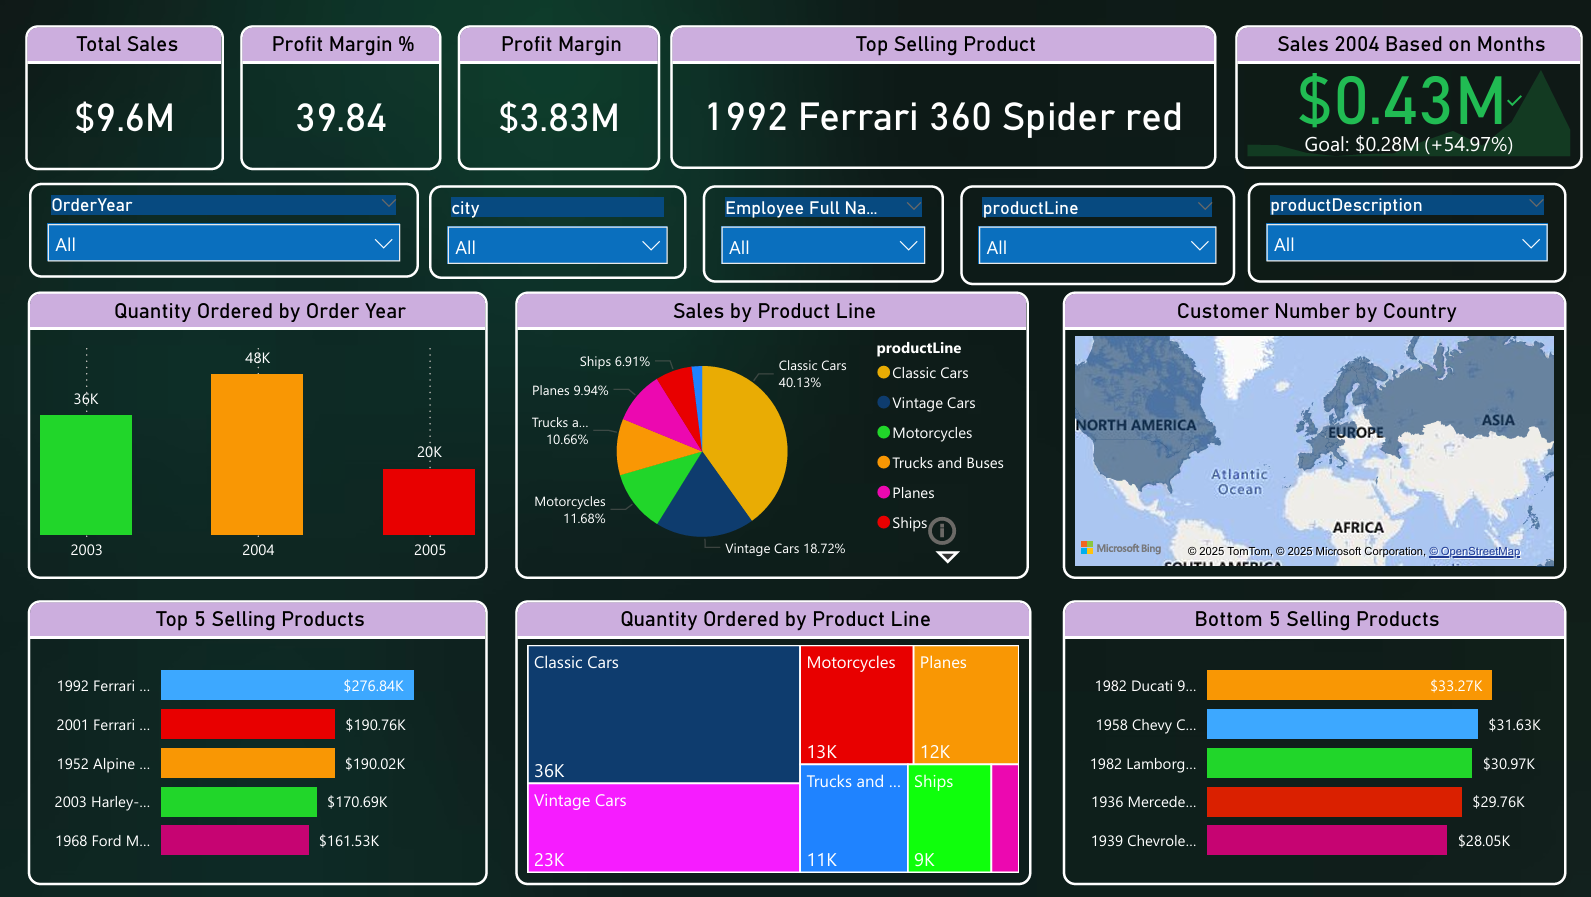

The dashboard page shown, as its layout file describes it:
{"tool":"powerbi","page":{"name":"Dashboard","canvas":[1280,720],"ordinal":0},"visuals":[{"type":"barChart","title":"Top 5 Selling Products","fields":{"Category":["Products.productName"],"Y":["Order Details.Sales"]},"box":[22.9,481.4,368.6,227.1],"z":0},{"type":"pieChart","title":"Sales by Product Line","fields":{"Category":["Products.productLine"],"Y":["Order Details.Sales"]},"box":[412.9,234.3,411.4,230],"z":1000},{"type":"card","title":"Profit Margin %","fields":{"Values":["classic_models_dataset.ProfitMargin%"]},"box":[192.9,21.4,161.4,115.7],"z":2000},{"type":"slicer","fields":{"Values":["Orders.OrderYear"]},"box":[24.3,147.1,311.4,75.7],"z":3000},{"type":"kpi","title":"Sales 2004 Based on Months","fields":{"Goal":["Orders.sales_2003"],"TrendLine":["Orders.Month Name"],"Indicator":["Orders.sales_2004"]},"box":[988.6,21.4,278.6,114.3],"z":4000},{"type":"filledMap","title":"Customer Number by Country","fields":{"Category":["Customers.country"]},"box":[851.4,234.3,402.9,230],"z":5000},{"type":"treemap","title":"Quantity Ordered by Product Line","fields":{"Group":["Product Lines.productLine"],"Values":["Order Details.quantityOrdered"]},"box":[412.9,481.4,412.9,227.1],"z":6000},{"type":"clusteredColumnChart","title":"Quantity Ordered by Order Year","fields":{"Category":["Orders.OrderYear"],"Y":["Order Details.quantityOrdered"]},"box":[22.9,234.3,368.6,230],"z":7000},{"type":"card","title":"Top Selling Product","fields":{"Values":["Order Details.MostOrderedProduct"]},"box":[537.1,21.4,437.1,114.3],"z":8000},{"type":"card","title":"Total Sales","fields":{"Values":["Order Details.Sales"]},"box":[21.4,21.4,158.6,115.7],"z":9000},{"type":"slicer","fields":{"Values":["Offices.city"]},"box":[344.3,148.6,205.7,75.7],"z":10000},{"type":"slicer","fields":{"Values":["Employees.Employee Full Name"]},"box":[562.9,148.6,192.9,78.6],"z":11000},{"type":"slicer","fields":{"Values":["Product Lines.productLine"]},"box":[768.6,148.6,220,80],"z":12000},{"type":"slicer","fields":{"Values":["Products.productDescription"]},"box":[998.6,147.1,255.7,80],"z":13000},{"type":"barChart","title":"Bottom 5 Selling Products","fields":{"Category":["Products.productName"],"Y":["Order Details.Sales"]},"box":[851.4,481.4,402.9,227.1],"z":14000},{"type":"actionButton","box":[738.8,410,32.5,31.2],"z":15000},{"type":"card","title":"Profit Margin ","fields":{"Values":["Order Details.Profit"]},"box":[367.1,21.4,161.4,115.7],"z":16000}]}

Visuals, with their boxes in screenshot pixels (x1, y1, x2, y2), scaled from the page's 1280x720 canvas onto the 1591x897 screenshot:
"Top 5 Selling Products" barChart: region(28, 600, 487, 883)
"Sales by Product Line" pieChart: region(513, 292, 1025, 578)
"Profit Margin %" card: region(240, 27, 440, 171)
slicer - Orders.OrderYear: region(30, 183, 417, 278)
"Sales 2004 Based on Months" kpi: region(1229, 27, 1575, 169)
"Customer Number by Country" filledMap: region(1058, 292, 1559, 578)
"Quantity Ordered by Product Line" treemap: region(513, 600, 1026, 883)
"Quantity Ordered by Order Year" clusteredColumnChart: region(28, 292, 487, 578)
"Top Selling Product" card: region(668, 27, 1211, 169)
"Total Sales" card: region(27, 27, 224, 171)
slicer - Offices.city: region(428, 185, 684, 279)
slicer - Employees.Employee Full Name: region(700, 185, 939, 283)
slicer - Product Lines.productLine: region(955, 185, 1229, 285)
slicer - Products.productDescription: region(1241, 183, 1559, 283)
"Bottom 5 Selling Products" barChart: region(1058, 600, 1559, 883)
actionButton: region(918, 511, 959, 550)
"Profit Margin " card: region(456, 27, 657, 171)
